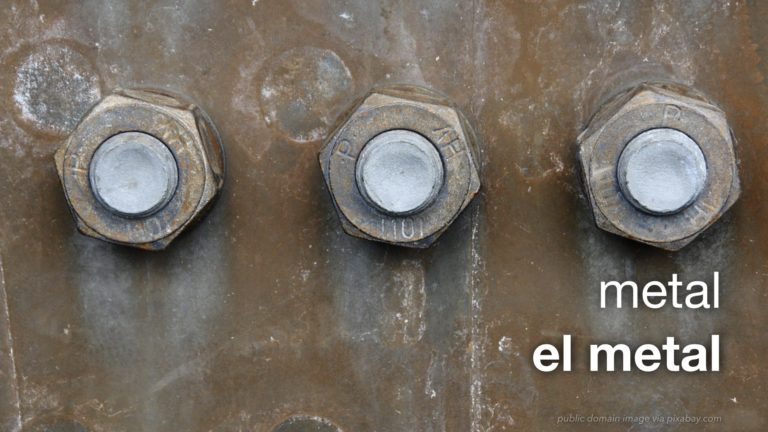bolt_b: (574, 80, 742, 255), (48, 88, 222, 256), (311, 89, 482, 251)
